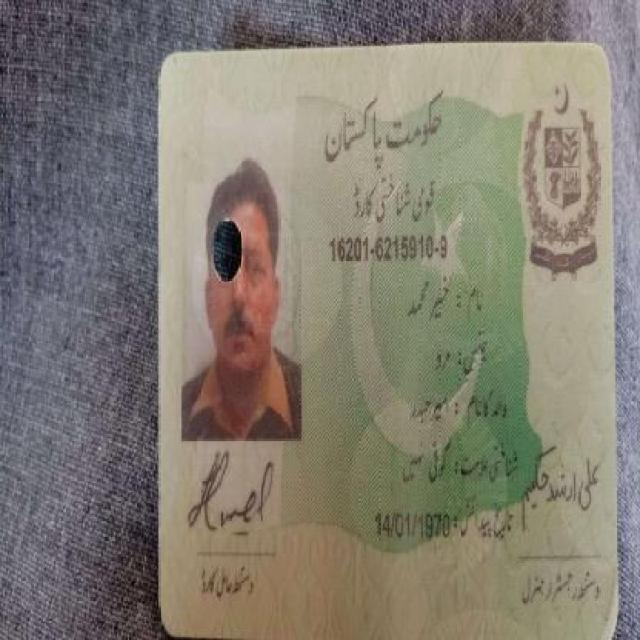Front: (150, 38, 624, 634)
